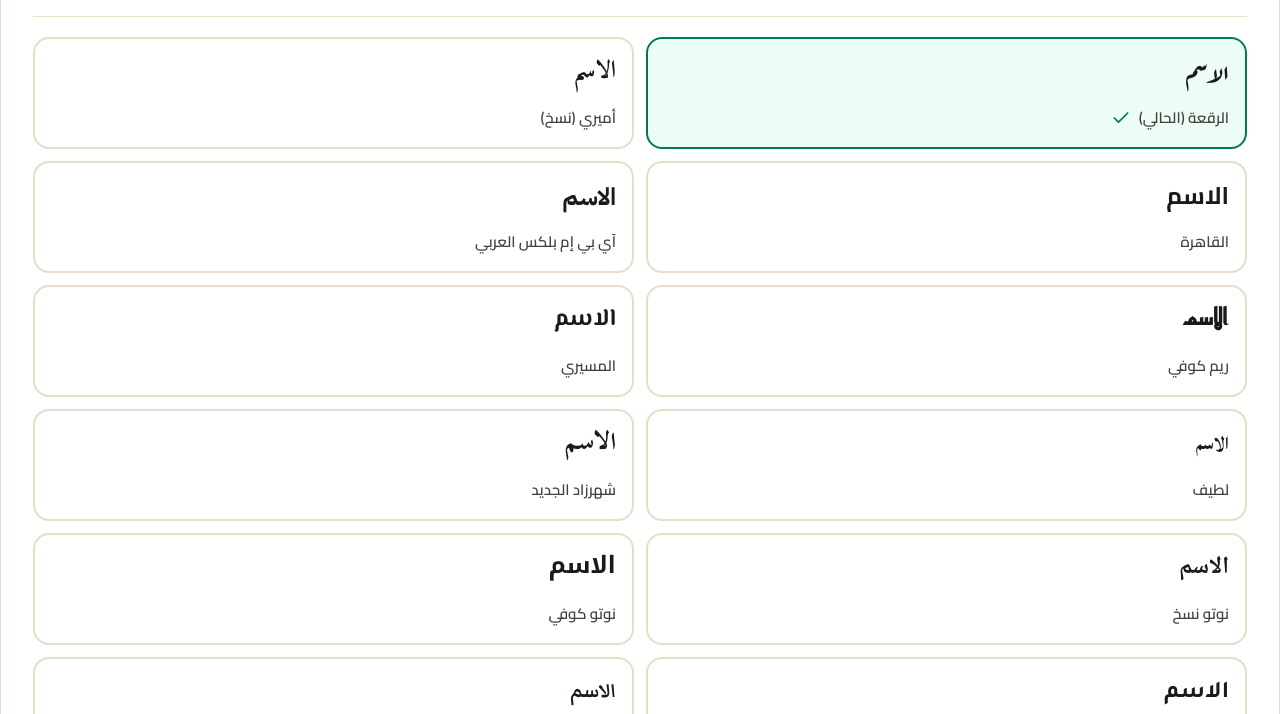
NameFontSettings › shows the message when saving fails
The image size is (1280, 714).
Click the button "الاسم أميري (نسخ)" at (595, 71), box [33, 37, 634, 149]
(page scrolled)
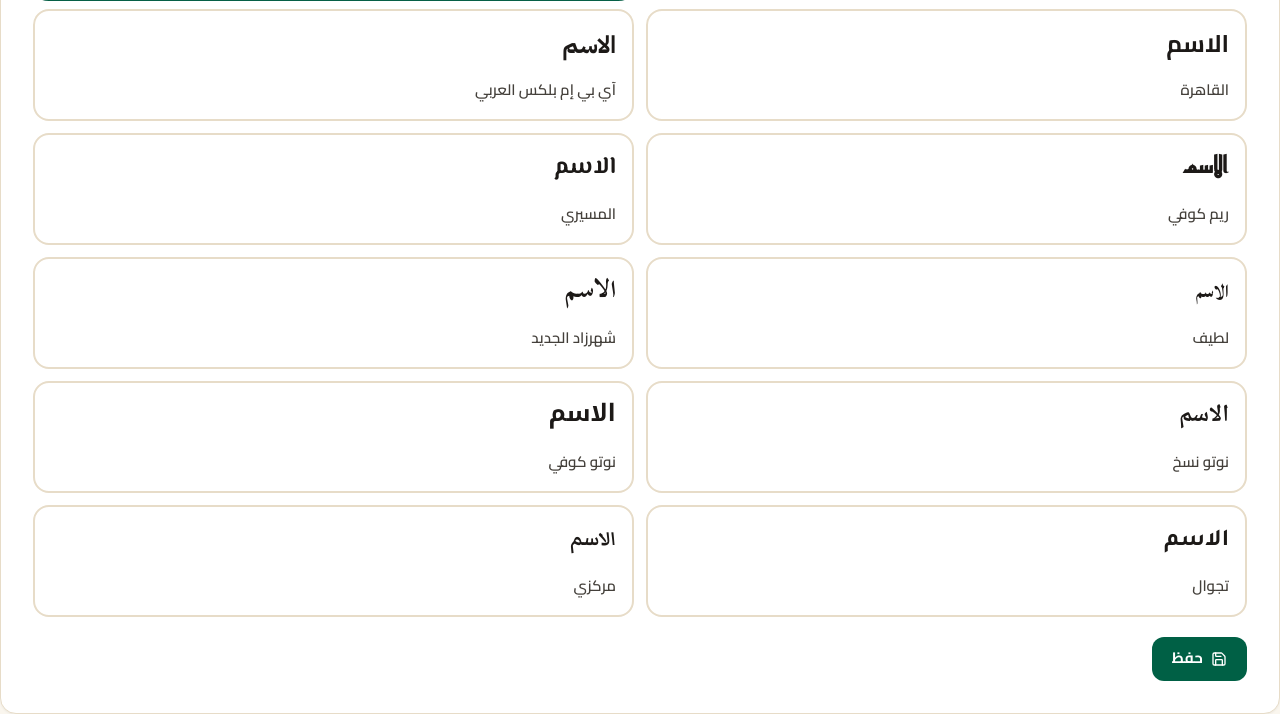
Click the button "حفظ" at (1199, 659), box [1152, 637, 1247, 681]
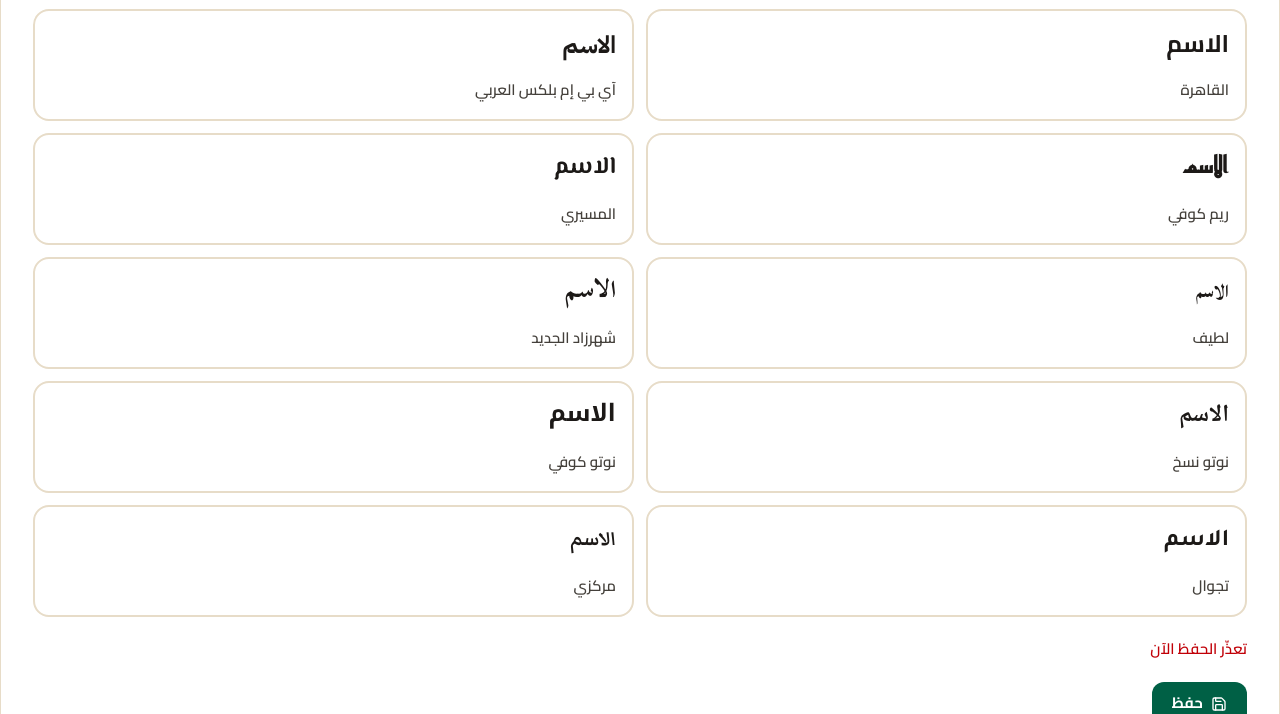
Expected: the message reads "تعذّر الحفظ الآن", [1150, 634, 1247, 663]
